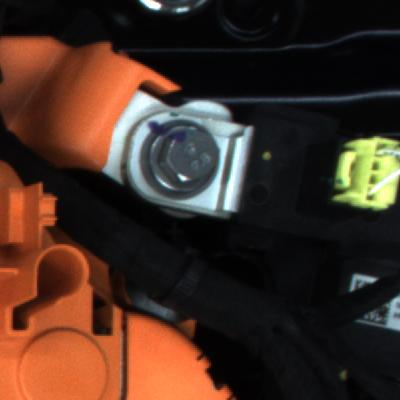nut_b: (132, 112, 231, 203)
